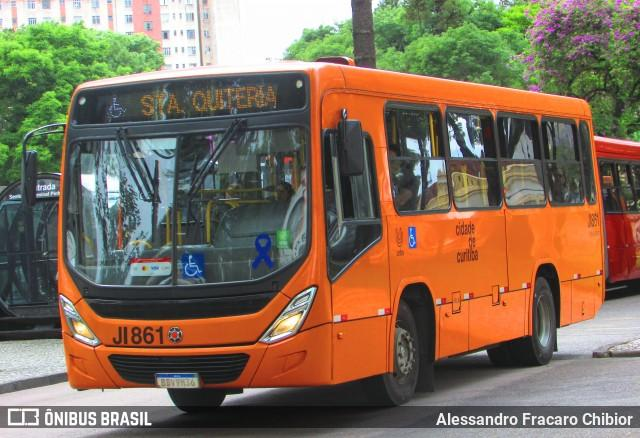STA QUITERIA: (135, 79, 283, 121)
